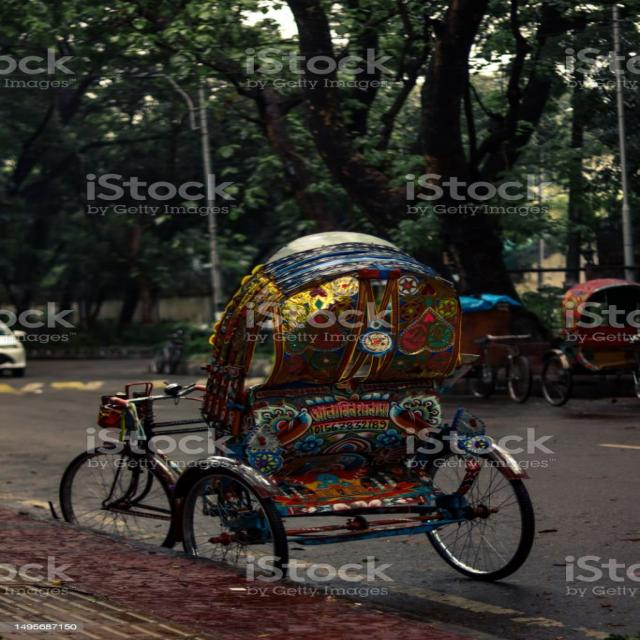rikshaw: (50, 207, 527, 614)
